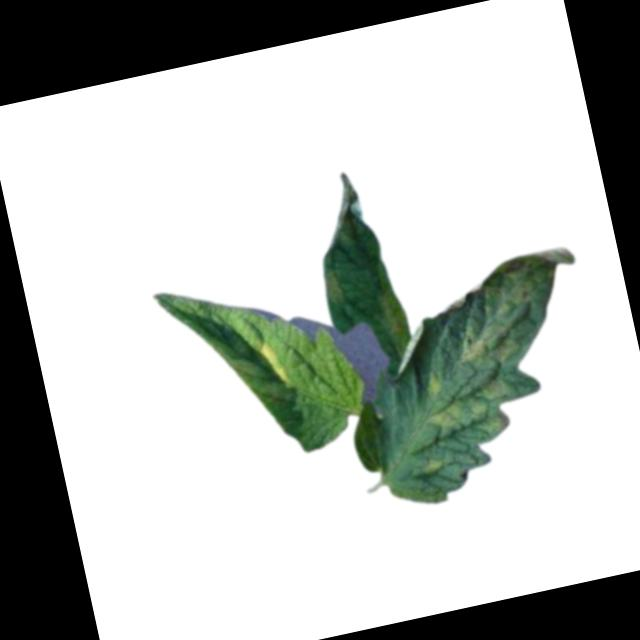Leaf_Mold: (440, 241, 591, 371), (424, 375, 524, 450), (257, 336, 292, 389), (421, 364, 450, 399), (320, 271, 346, 305), (421, 451, 446, 475)
